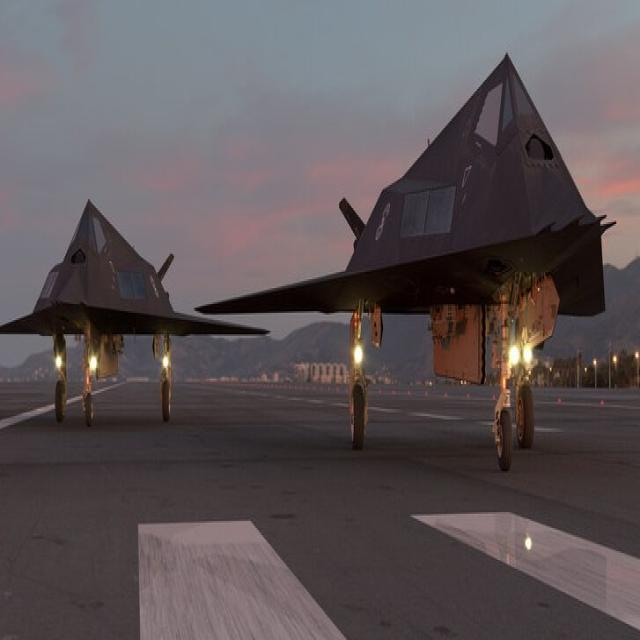F117: (186, 36, 636, 528), (1, 156, 277, 412)
